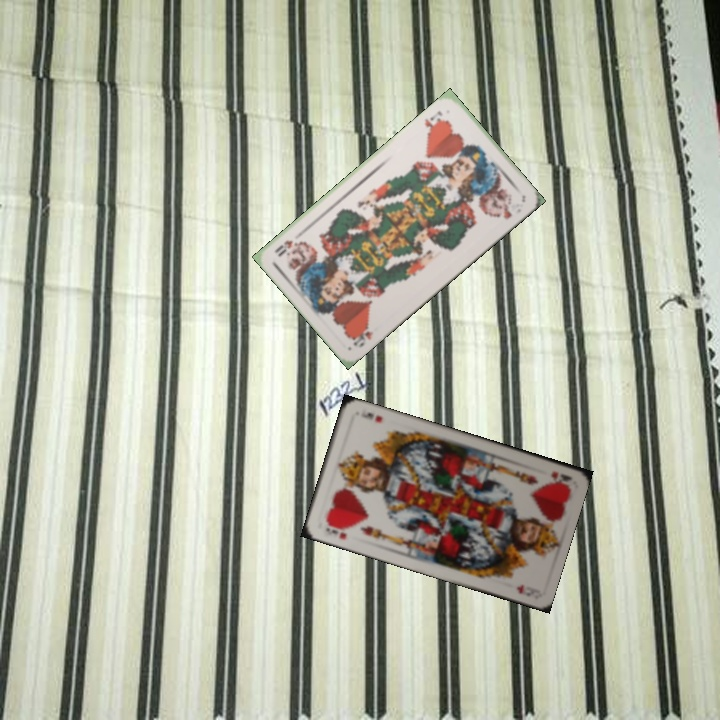HK: (322, 519, 352, 542), (547, 467, 574, 488)
HO: (348, 320, 376, 350), (420, 107, 446, 137)
